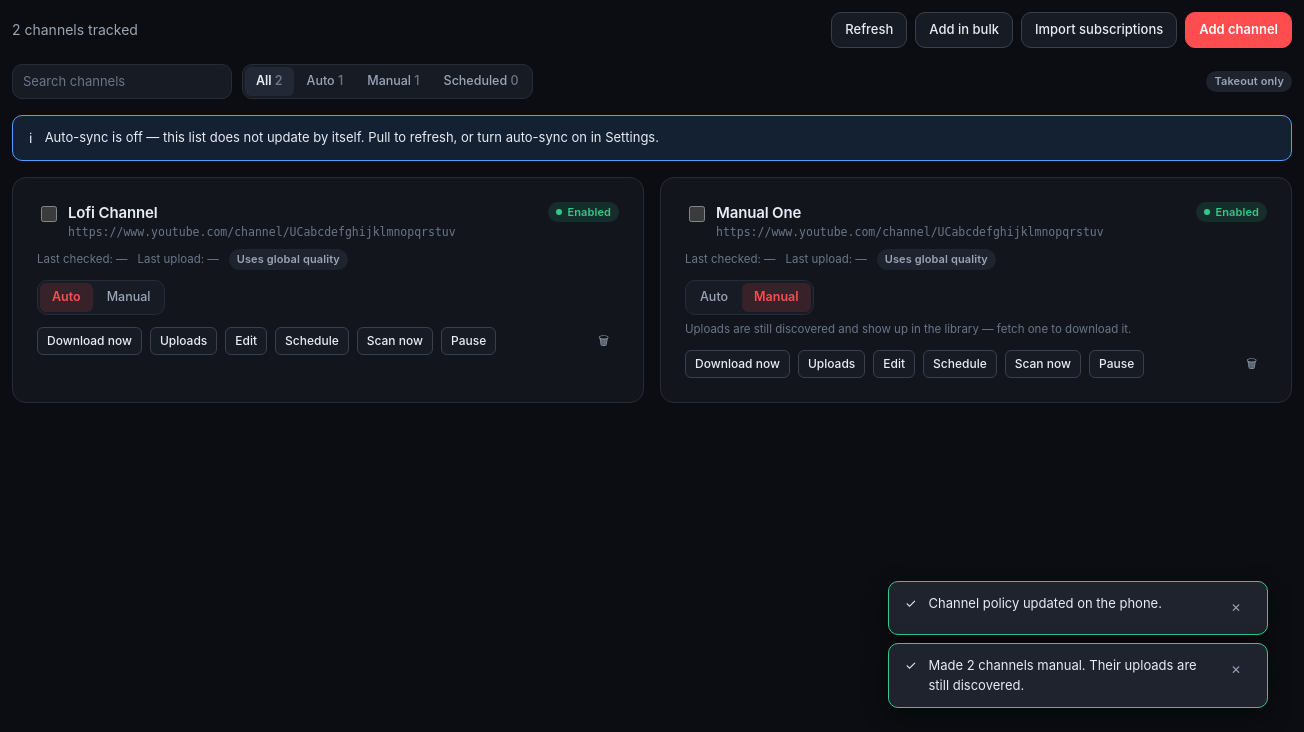
Test: channels screen — mode filter › filters the visible list by mode
Expected: the heading "Manual One" is shown, [716, 203, 801, 222]
Click the button "Manual 1".
click(393, 81)  # box [356, 67, 430, 96]
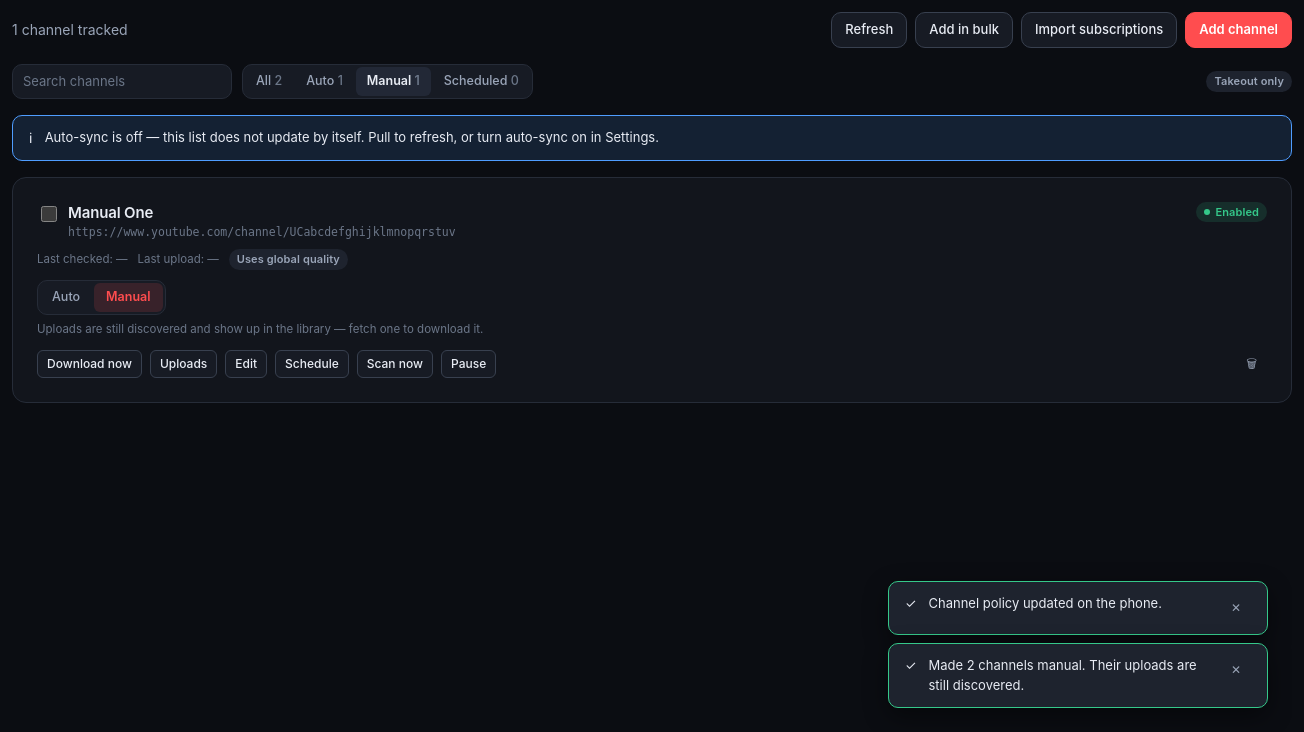
Expected: the heading "Manual One" is shown, [68, 203, 153, 222]
Now the heading "Lofi Channel" is gone
